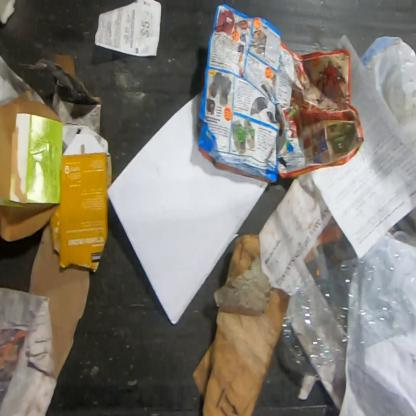cardboard: (189, 233, 292, 415), (28, 223, 92, 382), (0, 91, 64, 244), (49, 133, 112, 272), (51, 53, 110, 153)
soft_plastic: (275, 230, 415, 379), (360, 35, 415, 159)
